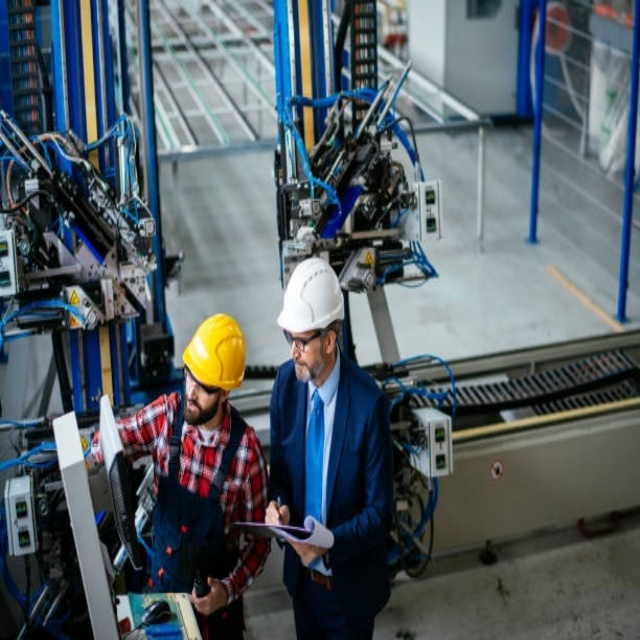Gafas: (283, 327, 326, 352), (185, 367, 223, 395)
Sin_guantes: (189, 577, 229, 618), (264, 497, 291, 524)
Sin_mascara: (291, 355, 312, 381), (184, 397, 201, 420)
